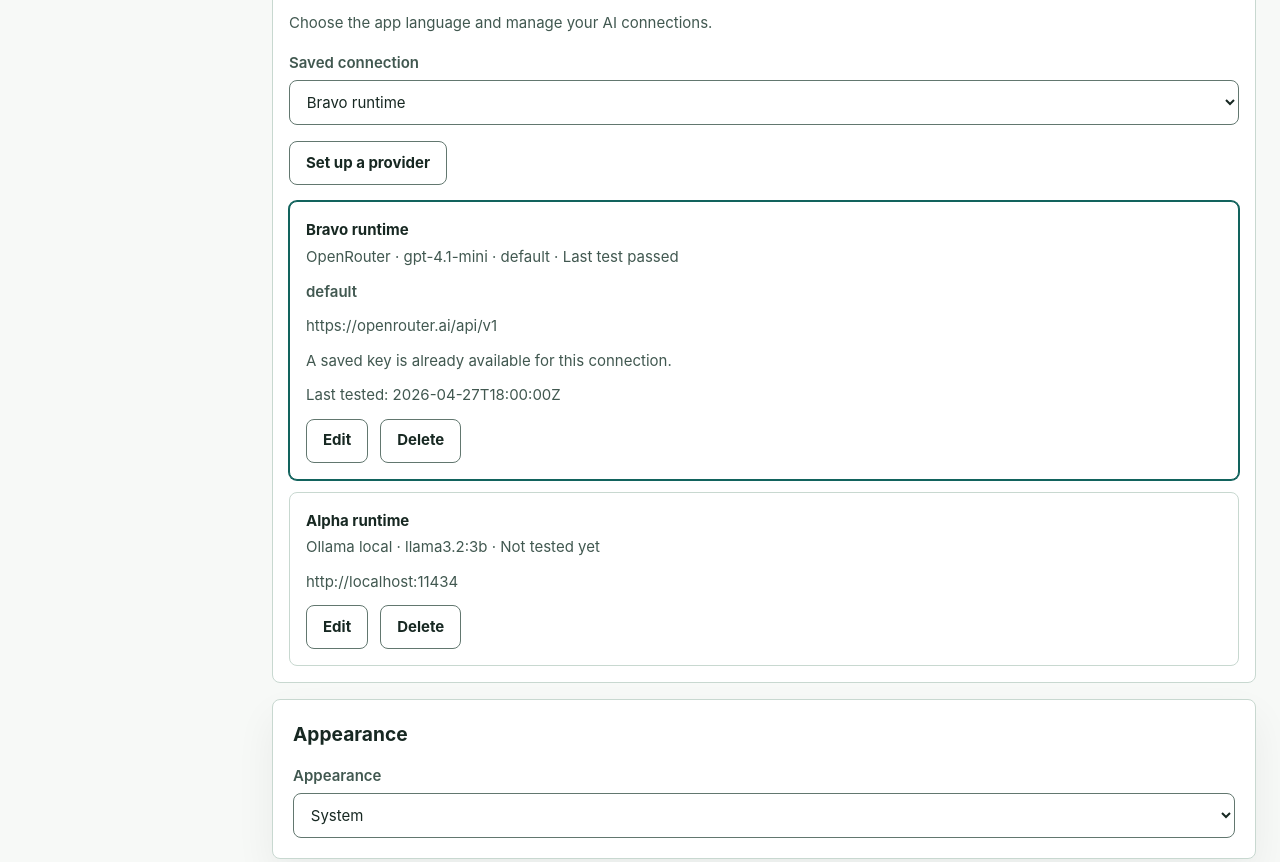
Settings route › reports deletion failures and keeps the connection selected
The width and height of the screenshot is (1280, 862).
(page scrolled)
Click the button with test id "settings.connection_row_delete" below "Last tested: 2026-04-27T18:00:00Z" at point(421, 441), box x1=380 y1=419 x2=461 y2=463
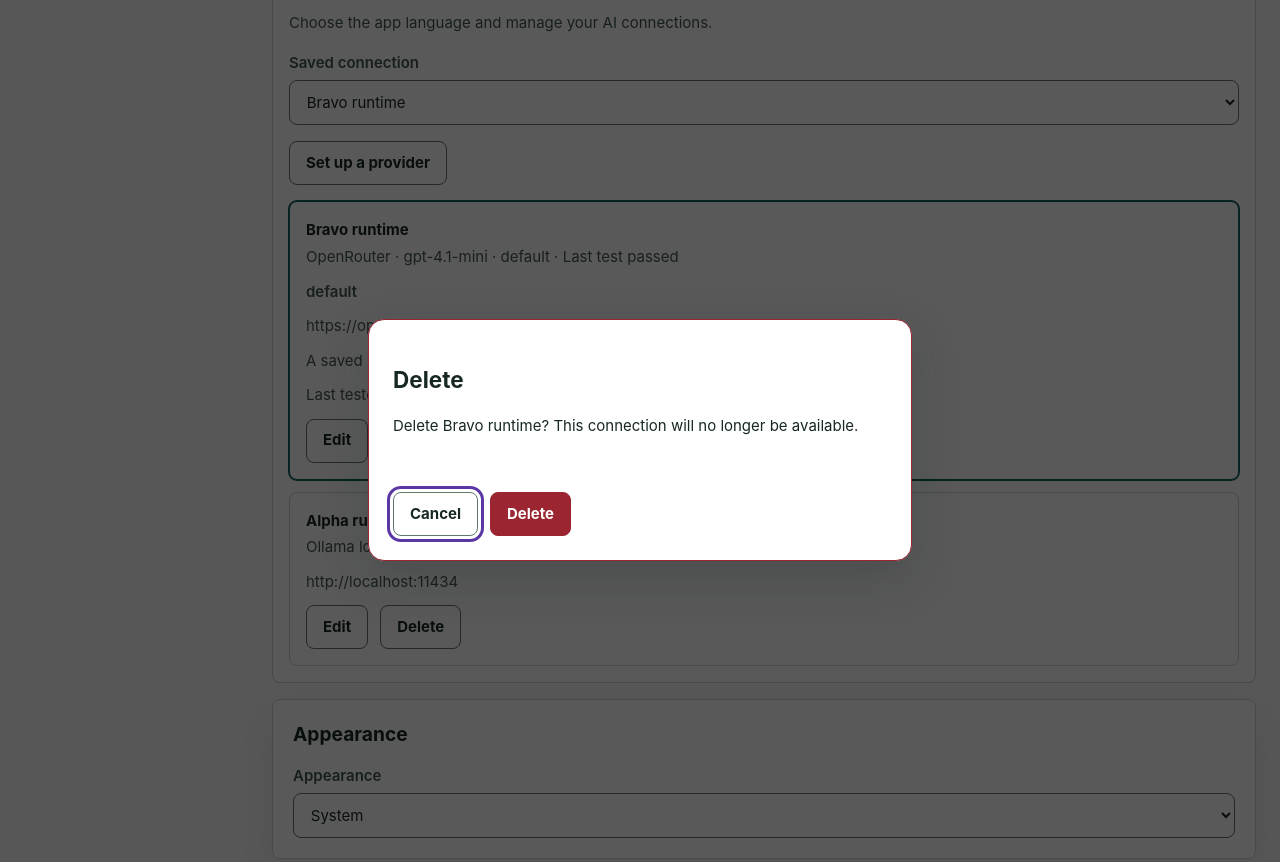
Click the button with test id "settings.connection_row_delete_confirm" at point(531, 514), box x1=490 y1=492 x2=571 y2=536
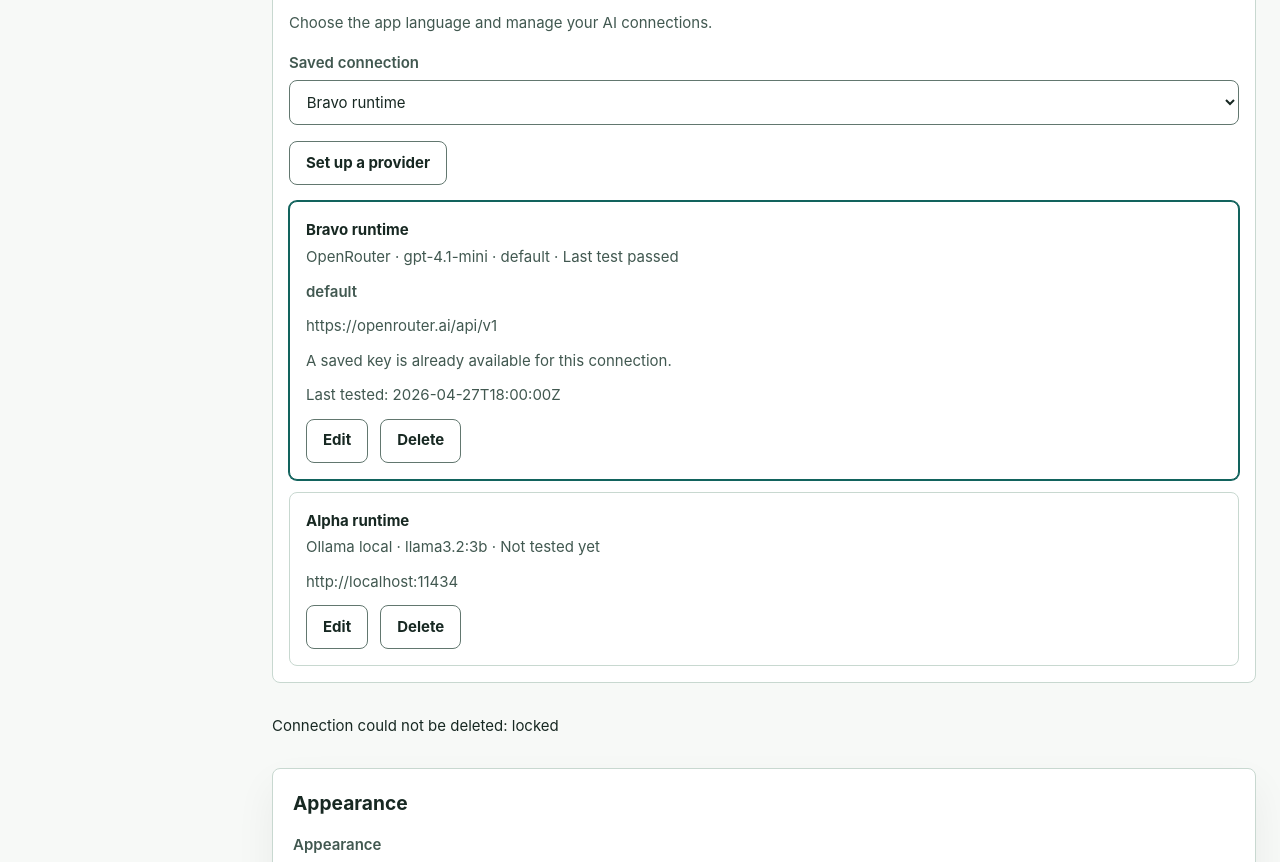
Check: the dropdown with test id "settings.connection_id" shows "Bravo runtime", box x1=289 y1=80 x2=1239 y2=125
Check: the text "Connection could not be deleted: locked" is shown, box x1=272 y1=716 x2=559 y2=735
